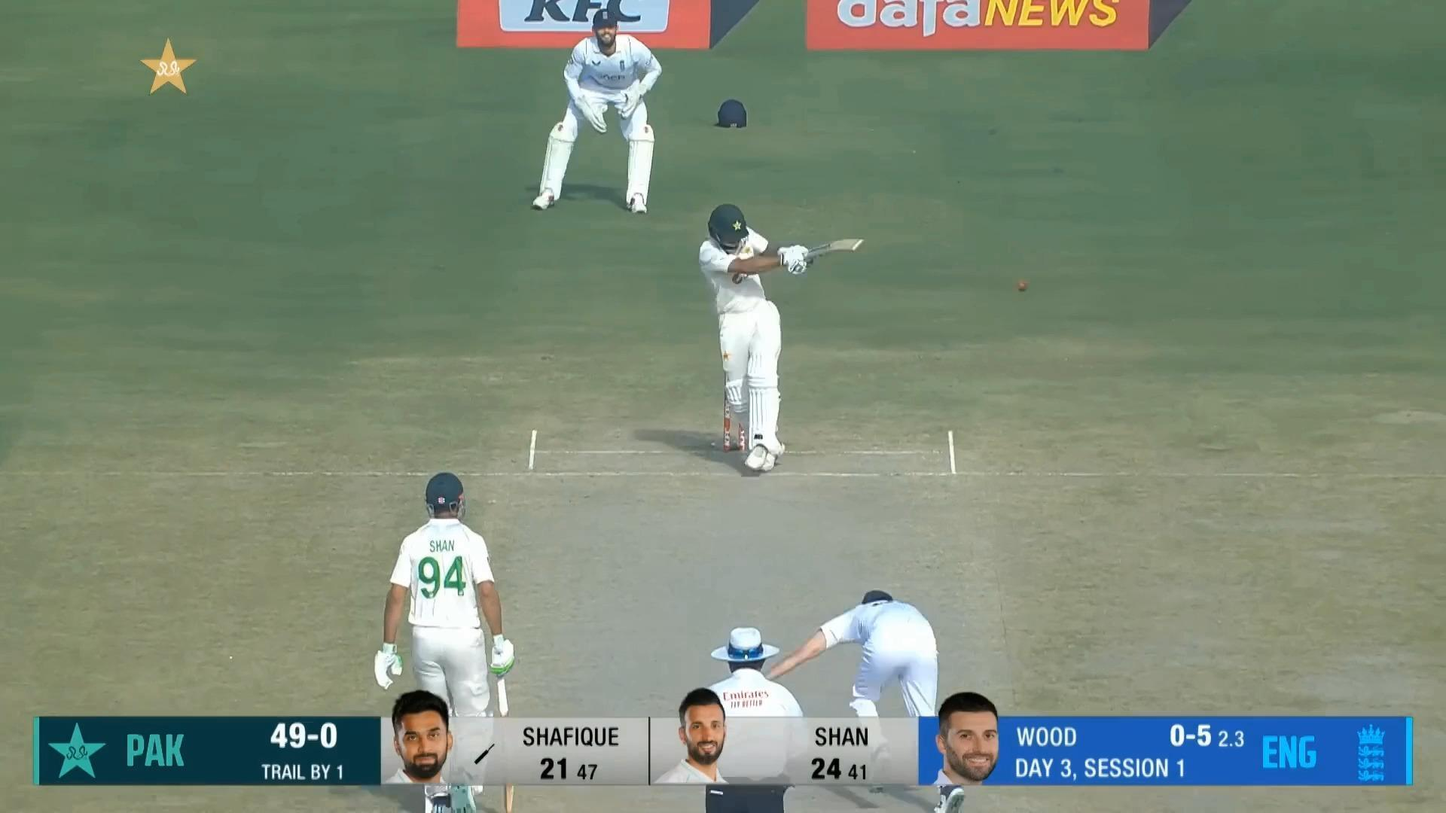BM 1: (699, 203, 864, 472)
BO: (756, 588, 971, 813)
